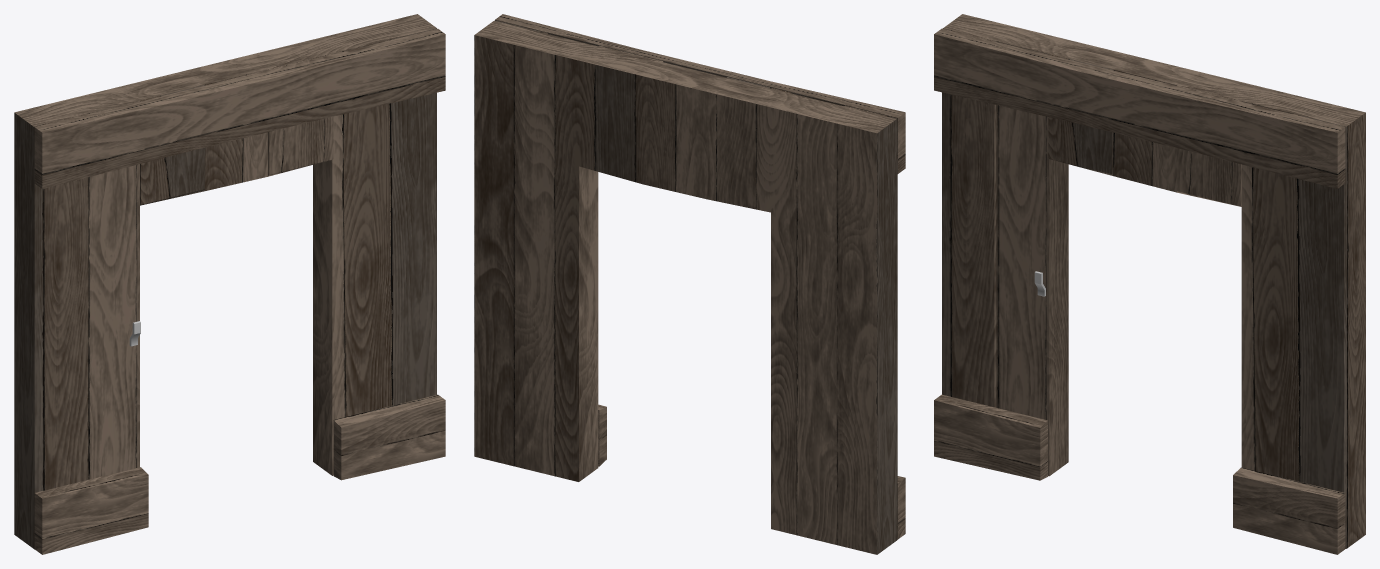
The model's file is SM_Wall_Door.fbx.
3 renders of one model, left to right at view 1: azimuth 30°, elevation 25°; view 2: azimuth 150°, elevation 25°; view 3: azimuth 330°, elevation 25°, orthographic.
Parts seen in each view (by area): view 1: SM_Wall_Door; view 2: SM_Wall_Door; view 3: SM_Wall_Door.
Boxes of the visible parts, box(x1,y1,x2,y2) form: SM_Wall_Door: box(14, 14, 445, 554); SM_Wall_Door: box(474, 14, 905, 554); SM_Wall_Door: box(934, 14, 1365, 554).
Bounding box in the file's own units: 300 × 300 × 36.46.
